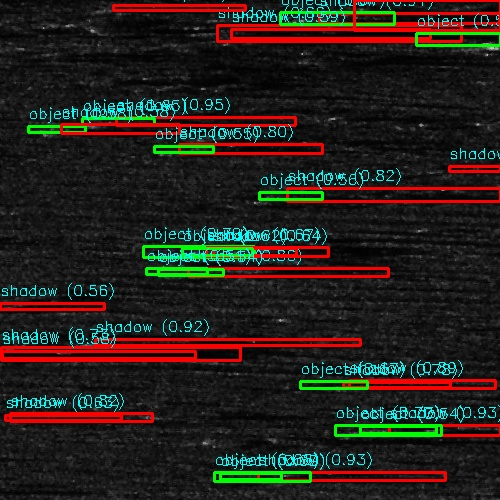rock: (303, 0, 428, 19), (260, 14, 395, 25), (188, 23, 261, 40), (199, 473, 304, 482), (139, 143, 202, 156), (449, 34, 500, 49), (52, 343, 115, 354), (443, 418, 500, 429), (0, 349, 42, 362), (268, 190, 321, 199), (46, 124, 67, 133), (95, 119, 148, 122), (257, 244, 288, 247), (491, 317, 500, 322), (496, 117, 500, 122)
shadow: (225, 23, 500, 40), (0, 349, 297, 362), (366, 0, 500, 19), (84, 343, 257, 354), (328, 14, 500, 25), (295, 190, 500, 199), (171, 143, 309, 156), (252, 473, 434, 482), (57, 124, 187, 133), (0, 301, 148, 308), (0, 362, 296, 365), (0, 355, 268, 358), (122, 119, 301, 122), (0, 486, 97, 491), (273, 244, 415, 247), (0, 149, 45, 152)
